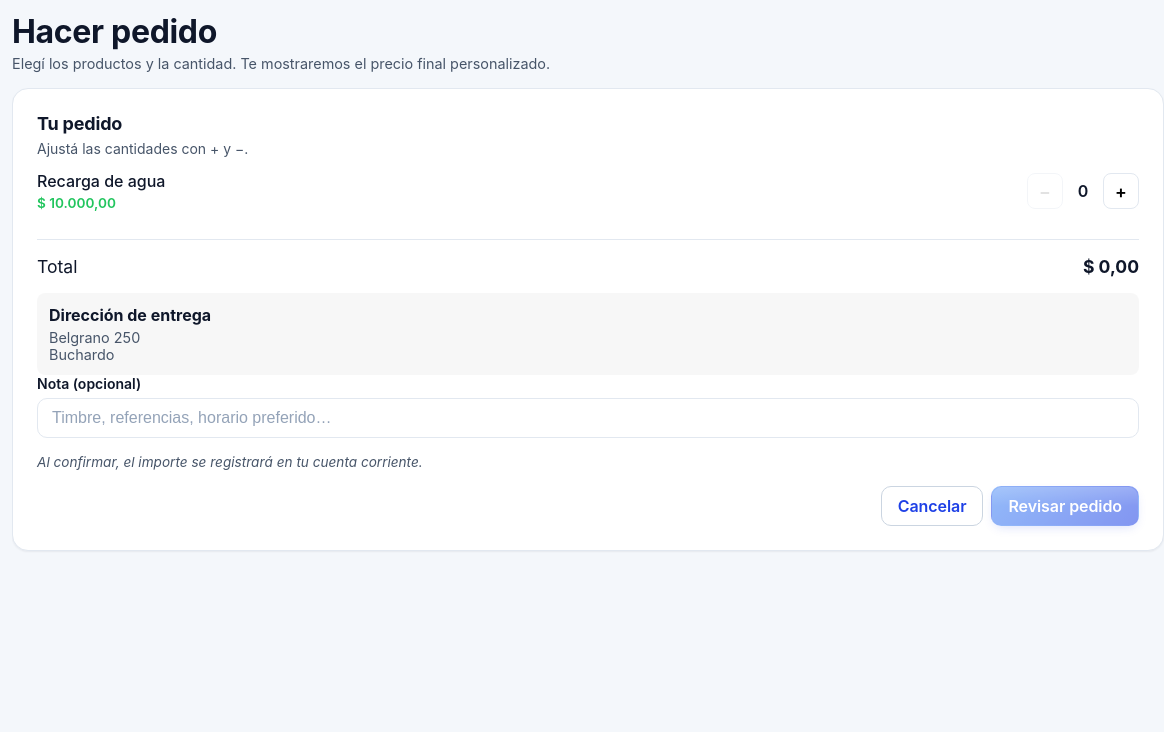
Scenario: Smoke — MuniFront Ciudadano Nuevo Pedido › muestra productos y total del pedido al confirmar
Check: the text "Recarga de agua" is shown, box [37,171,165,191]
What coordinates should you click on to do the following:
click the button named "Agregar Recarga de agua"
I would click on:
 (1121, 191)
Its box is [1103,173,1139,209].
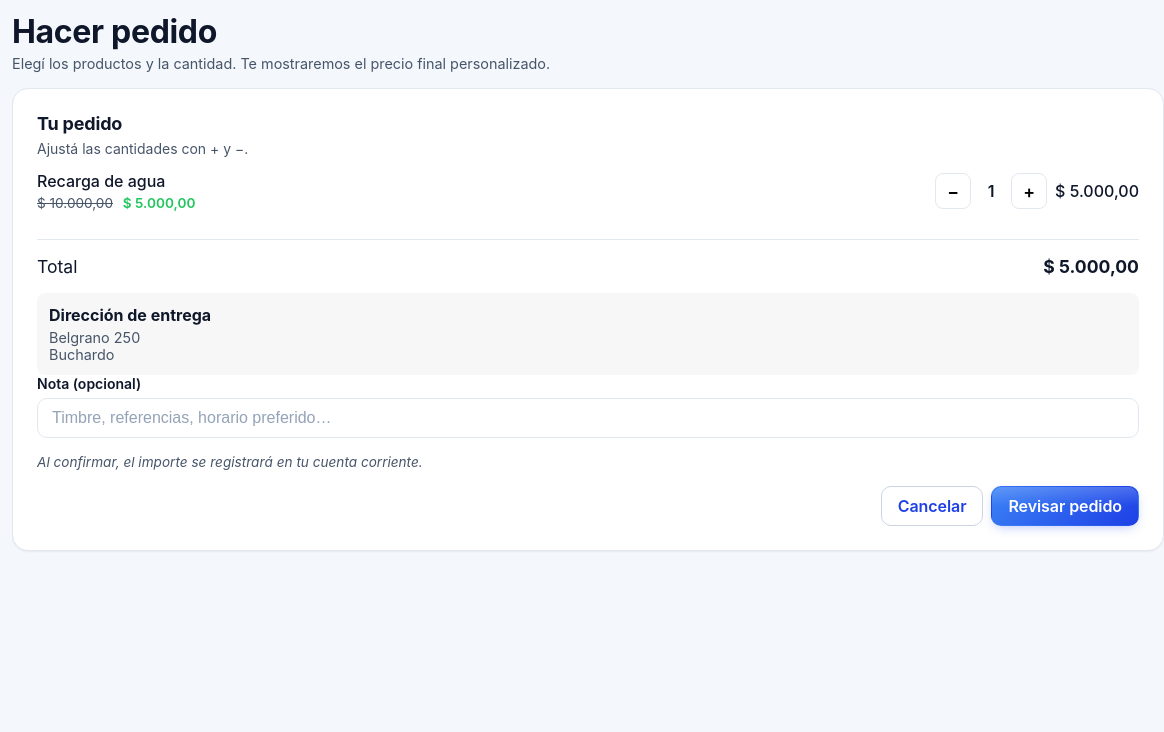
Check: the text "$ 5.000,00" next to "$ 10.000,00" is shown, box [123,195,195,211]
